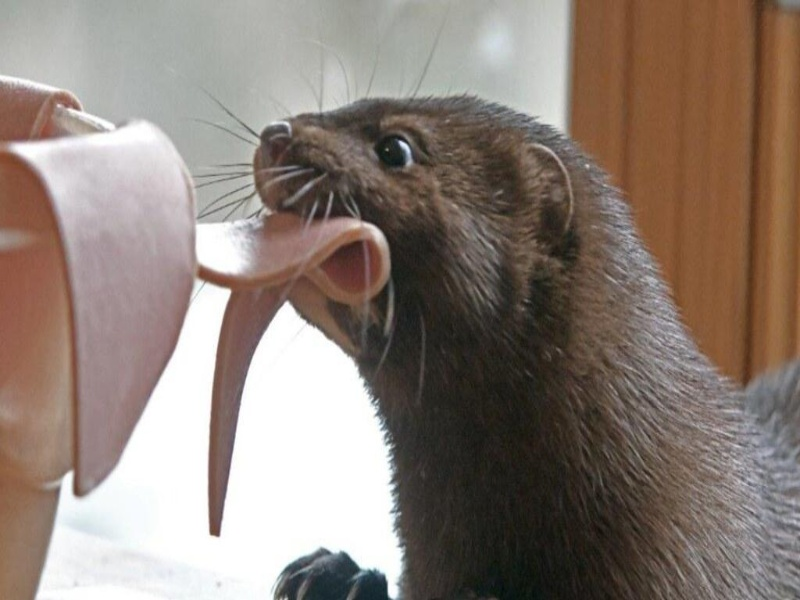minkish: (237, 71, 793, 600)
